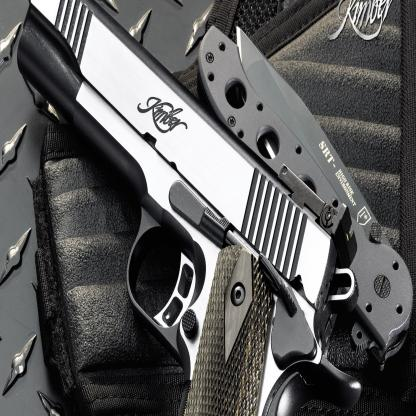handgun: (17, 1, 360, 416)
